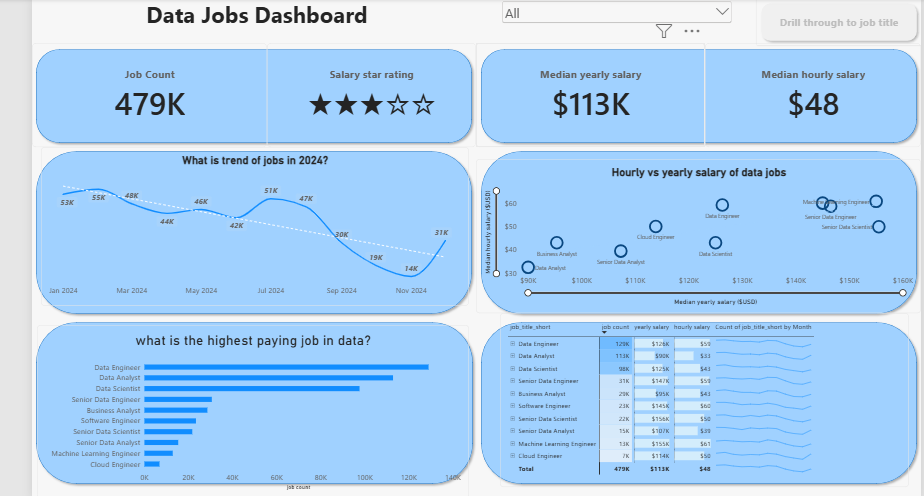

Layout of this report page (visuals, bound fields, positions):
{"tool":"powerbi","page":{"name":"dashboards","canvas":[1920,1080],"ordinal":0},"visuals":[{"type":"group","id":"g1","title":"background","box":[0,99.4,1920.2,956.9],"z":0},{"type":"shape","box":[0,99.4,959,220.3],"z":0,"group":"g1"},{"type":"textbox","box":[10.8,0,950.4,95],"z":1000},{"type":"shape","box":[961.2,99.4,959,220.3],"z":1000,"group":"g1"},{"type":"slicer","fields":{"Values":["job_postings_flat.job_title_short"]},"box":[1010.9,0,505.4,95],"z":2000},{"type":"shape","box":[0,319.7,959,369.4],"z":2000,"group":"g1"},{"type":"cardVisual","fields":{"Data":["CountNonNull(job_postings_flat.job_title_short)"]},"box":[0,94.8,507.6,225.6],"z":3000},{"type":"shape","box":[961.2,319.7,959,369.4],"z":3000,"group":"g1"},{"type":"cardVisual","fields":{"Data":["job_postings_flat.salary star rating"]},"box":[507.6,94.8,451.2,225.6],"z":4000},{"type":"shape","box":[0,689.1,961.2,367.2],"z":4000,"group":"g1"},{"type":"cardVisual","fields":{"Data":["Median(job_postings_flat.salary_year_avg)"]},"box":[958.7,94.8,494.7,225.6],"z":5000},{"type":"shape","box":[961.2,689.2,959,367.2],"z":5000,"group":"g1"},{"type":"cardVisual","fields":{"Data":["Median(job_postings_flat.salary_hour_avg)"]},"box":[1453.5,94.8,466.5,225.6],"z":6000},{"type":"lineChart","title":"What is trend of jobs in 2024?","fields":{"Category":["job_postings_flat.job_posted_date.Variation.Date Hierarchy.Year","job_postings_flat.job_posted_date.Variation.Date Hierarchy.Quarter","job_postings_flat.job_posted_date.Variation.Date Hierarchy.Month","job_postings_flat.job_posted_date.Variation.Date Hierarchy.Day"],"Y":["CountNonNull(job_postings_flat.job_title)"]},"box":[19.4,319.7,924.5,343.4],"z":7000},{"type":"barChart","title":"what is the highest paying job in data?","fields":{"Category":["job_postings_flat.job_title_short"],"Y":["CountNonNull(job_postings_flat.job_title_short)"]},"box":[10.8,704.2,933.1,373.7],"z":8000},{"type":"scatterChart","title":"Hourly vs yearly salary of data jobs","fields":{"Series":["job_postings_flat.job_title_short"],"X":["Median(job_postings_flat.salary_year_avg)"],"Y":["Median(job_postings_flat.salary_hour_avg)"]},"box":[959,345.6,961.2,332.6],"z":9000},{"type":"pivotTable","fields":{"Rows":["job_postings_flat.job_title_short","job_postings_flat.job_posted_date.Variation.Date Hierarchy.Quarter"],"Values":["CountNonNull(job_postings_flat.job_title_short)","Median(job_postings_flat.salary_year_avg)","Median(job_postings_flat.salary_hour_avg)","SparklineData(CountNonNull(job_postings_flat.job_title_short)_[job_postings_flat.job_posted_date.Variation.Date Hierarch"]},"box":[1010.9,678.2,883.4,375.8],"z":10000},{"type":"actionButton","box":[1566,0,354.2,99.4],"z":10001}]}

Visuals, with their boxes on the page's 1920x1080 design canvas (x1, y1, x2, y2). These are canvas units, not pixel positions in the 924x496 screenshot, which may show the page scaled, cropped or inside an application window:
"background" group: (0,99,1920,1056)
shape: (0,99,959,320)
textbox: (11,0,961,95)
shape: (961,99,1920,320)
slicer - job_postings_flat.job_title_short: (1011,0,1516,95)
shape: (0,320,959,689)
cardVisual - CountNonNull(job_postings_flat.job_title_short): (0,95,508,320)
shape: (961,320,1920,689)
cardVisual - job_postings_flat.salary star rating: (508,95,959,320)
shape: (0,689,961,1056)
cardVisual - Median(job_postings_flat.salary_year_avg): (959,95,1453,320)
shape: (961,689,1920,1056)
cardVisual - Median(job_postings_flat.salary_hour_avg): (1454,95,1920,320)
"What is trend of jobs in 2024?" lineChart: (19,320,944,663)
"what is the highest paying job in data?" barChart: (11,704,944,1078)
"Hourly vs yearly salary of data jobs" scatterChart: (959,346,1920,678)
pivotTable - job_postings_flat.job_title_short x job_postings_flat.job_posted_date.Variation.Date Hierarchy.Quarter: (1011,678,1894,1054)
actionButton: (1566,0,1920,99)
